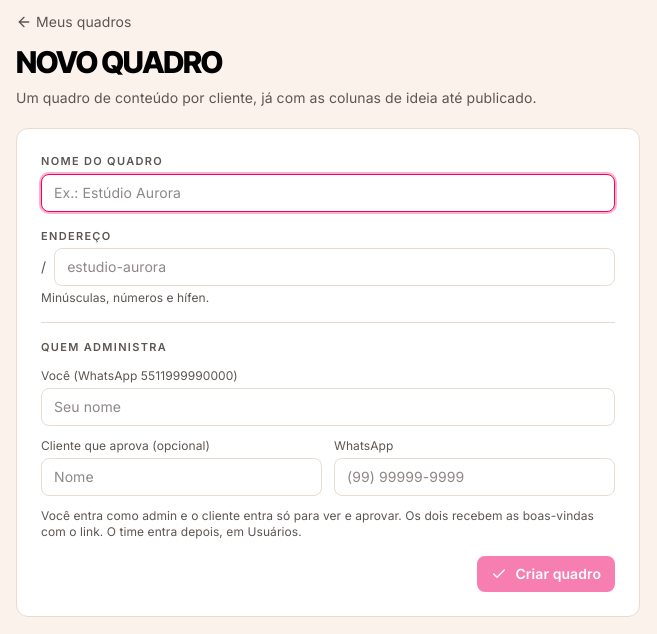
Test: NewBoardPage · cliente opcional › cria sem o cliente quando os dois campos ficam vazios
Type "Enkra" into the field with placeholder "Ex.: Estúdio Aurora" at (328, 192), box [41,174,615,212]
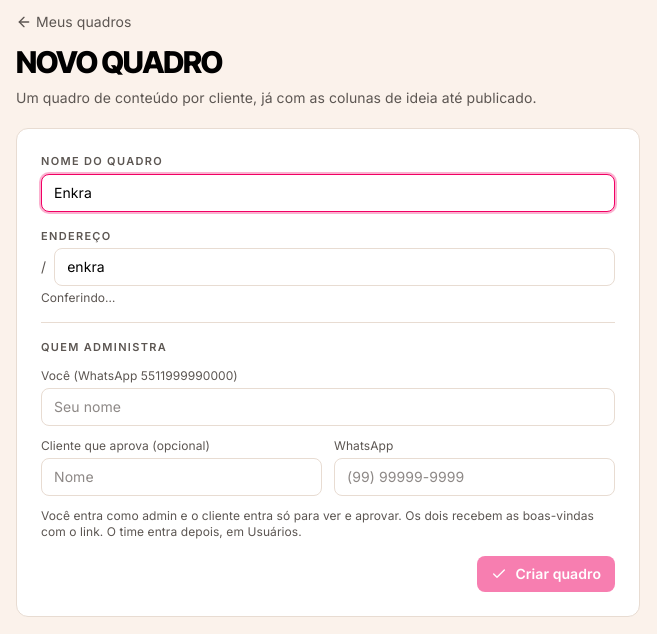
Type "Ana" into the field with placeholder "Seu nome" at (328, 406), box [41,388,615,426]
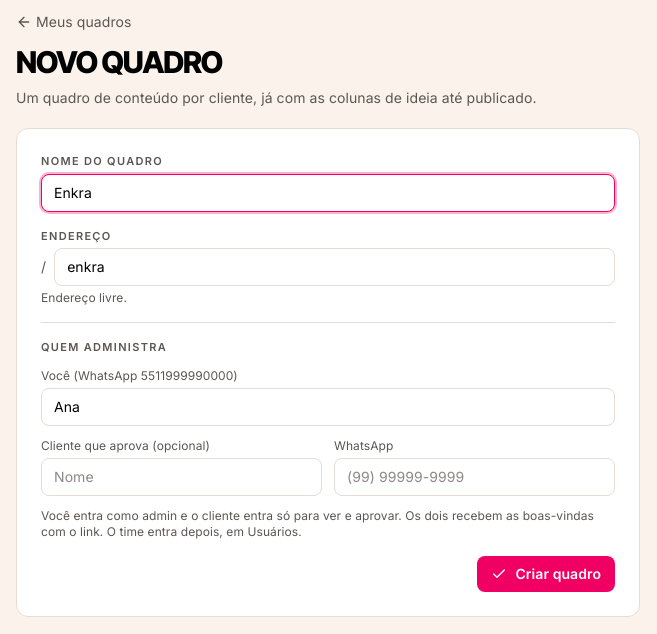
Check: the text "Endereço livre." is shown, box [41,290,127,305]
Check: the button "Criar quadro" is enabled, box [477,556,615,592]
